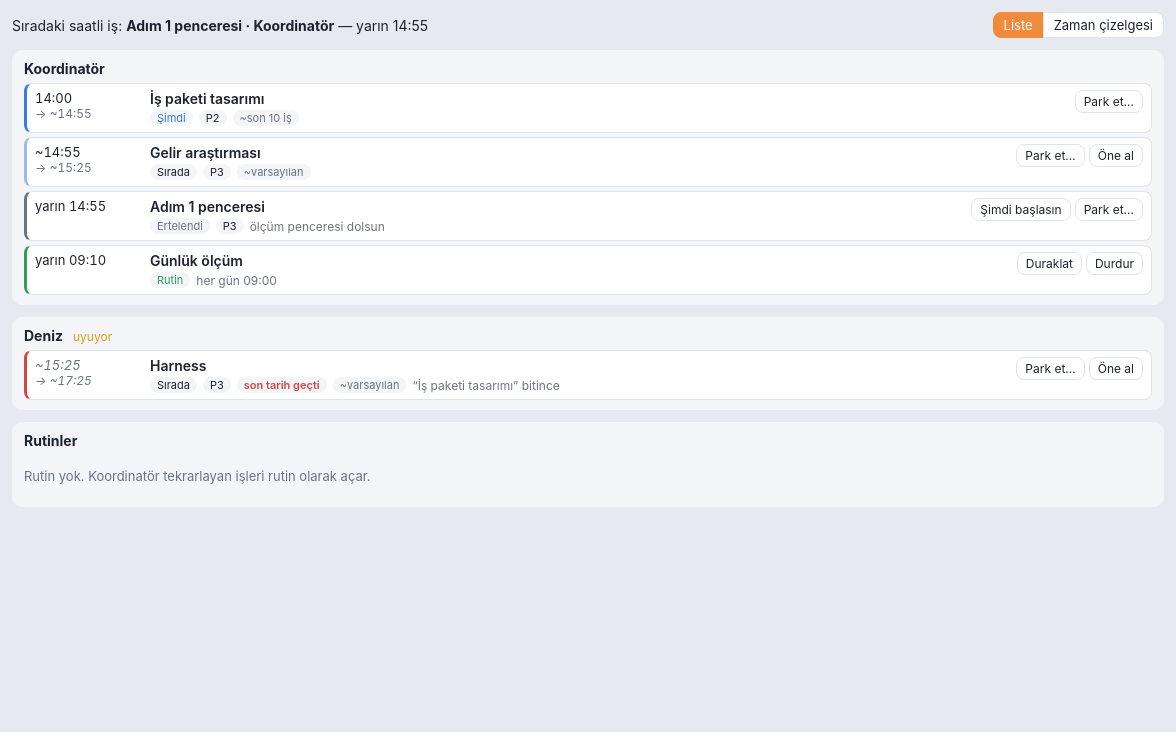
AgendaTab › shows the server’s Turkish message by the row when a button fails
Expected: the element "Koordinatör" is shown, [12, 50, 1164, 305]
Click the button "Şimdi başlasın" at (1021, 210), box [971, 198, 1071, 221]
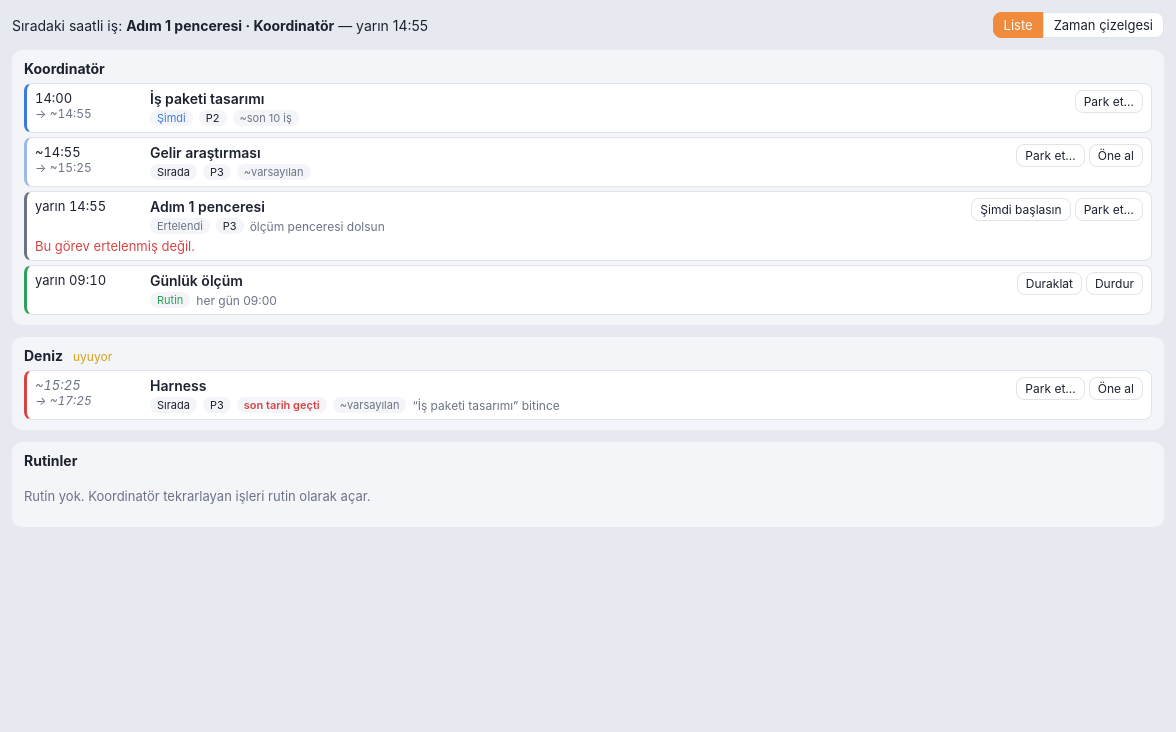
Expected: the message reads "Bu görev ertelenmiş değil.", [35, 238, 195, 254]
